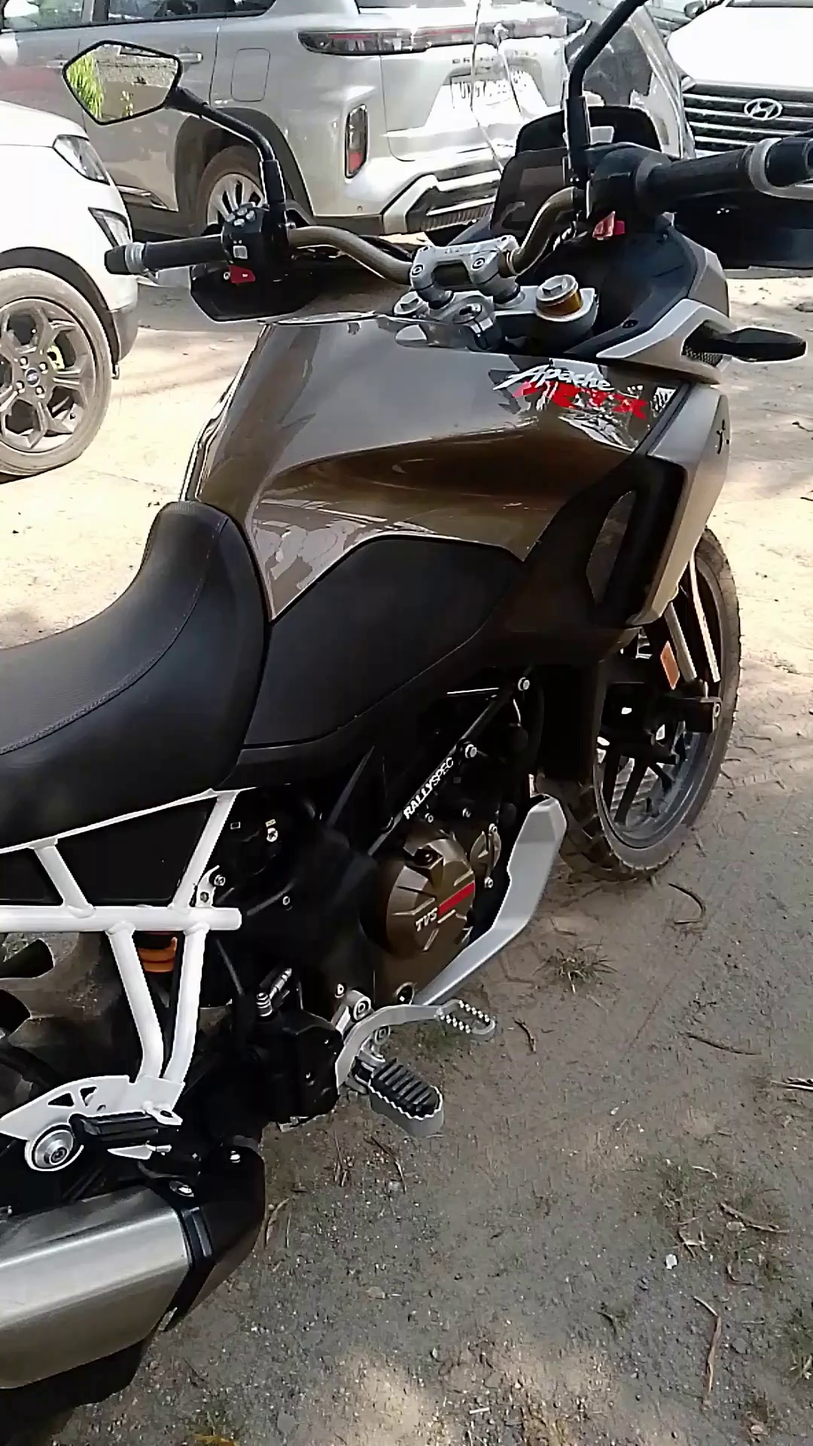engine: (361, 753, 497, 979)
